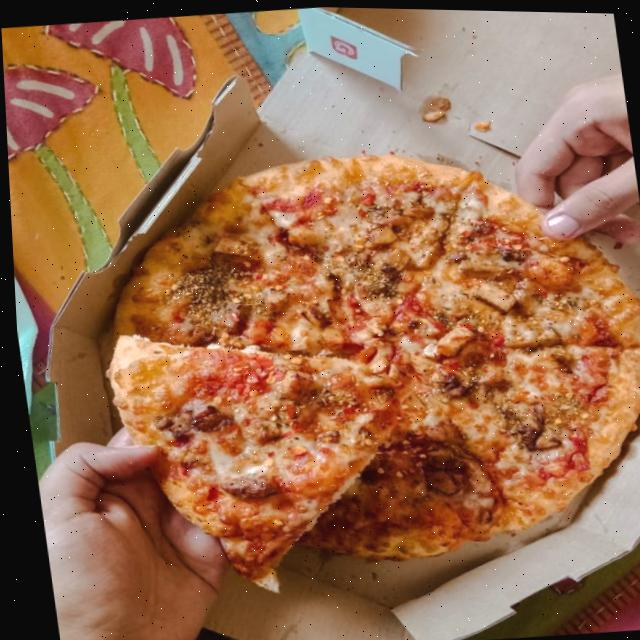pizza: (71, 122, 640, 610)
